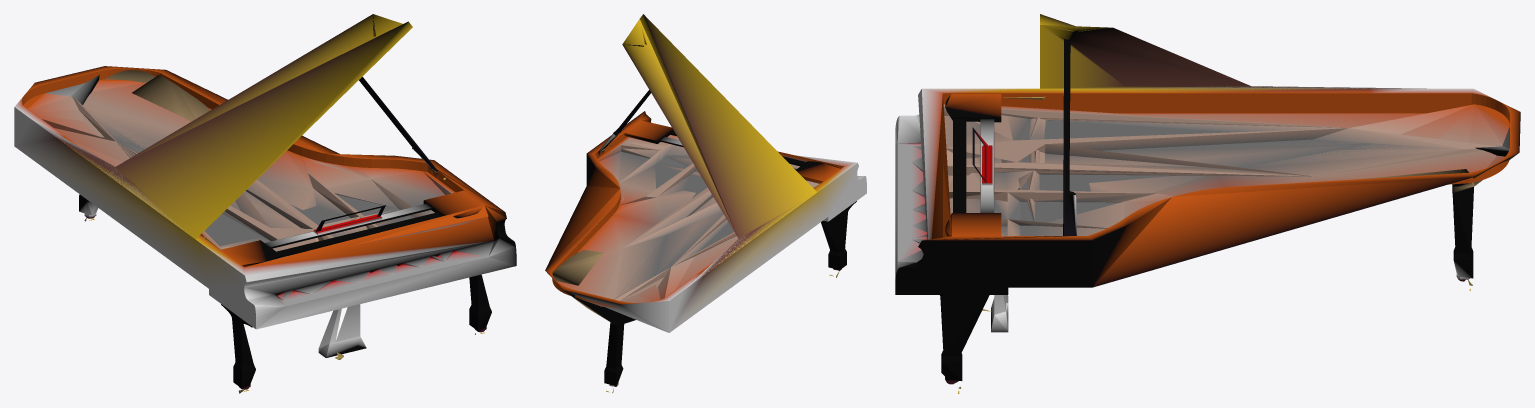
File: grand-piano.lod2.glb
3 views of the same model, side by side, from view 1: azimuth 30°, elevation 25°; view 2: azimuth 150°, elevation 25°; view 3: azimuth 270°, elevation 25° (orthographic). The views are drawn at different scales.
Parts seen in each view (by area): view 1: Object_3; view 2: Object_3; view 3: Object_3.
Boxes of the visible parts, bbox=[...] form: Object_3: bbox=[14, 14, 516, 393]; Object_3: bbox=[545, 14, 866, 393]; Object_3: bbox=[895, 14, 1520, 393].
Size of the model in its own units: 1.25 by 1.37 by 2.17.
